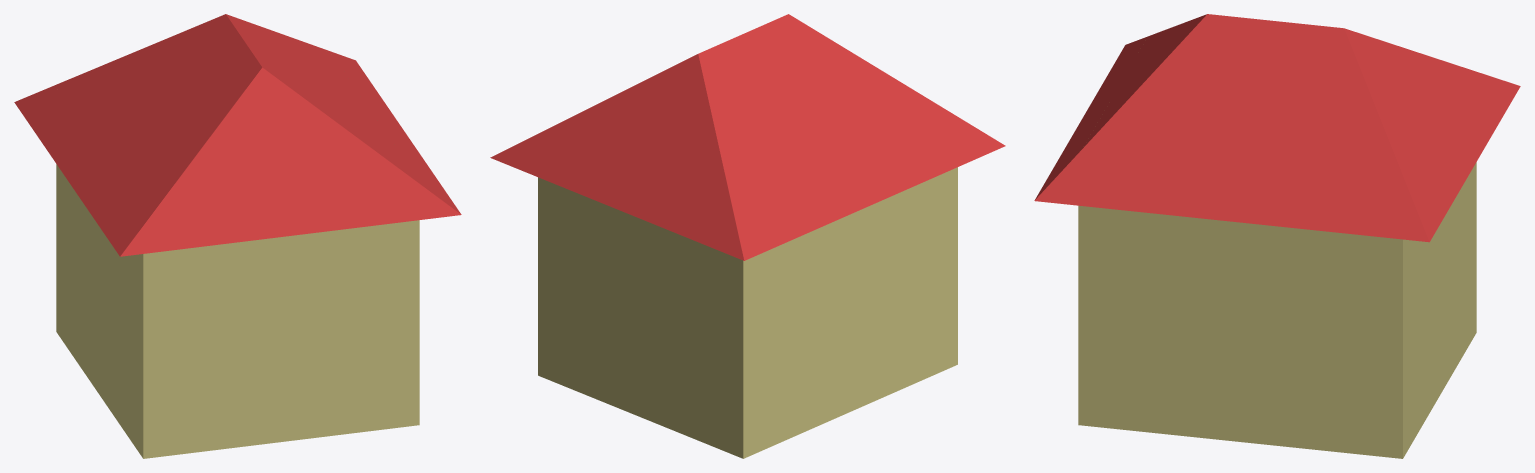
The picture shows the model from 3 angles, left to right: view 1: azimuth 30°, elevation 25°; view 2: azimuth 150°, elevation 25°; view 3: azimuth 270°, elevation 25°; orthographic projection. The views are drawn at different scales.
Parts seen in each view (by area): view 1: group_5, group_3, group_4; view 2: group_5, group_3, group_4; view 3: group_5, group_3, group_4.
Boxes of the visible parts, box(x1,y1,x2,y2) form: group_5: box(56, 164, 419, 458); group_3: box(14, 14, 461, 256); group_4: box(14, 48, 461, 256); group_5: box(538, 167, 957, 458); group_3: box(547, 14, 1005, 260); group_4: box(490, 110, 1001, 260); group_5: box(1078, 162, 1476, 458); group_3: box(1035, 14, 1471, 242); group_4: box(1034, 36, 1520, 242).
Size of the model in its own units: 12.79 by 13.32 by 10.9.
